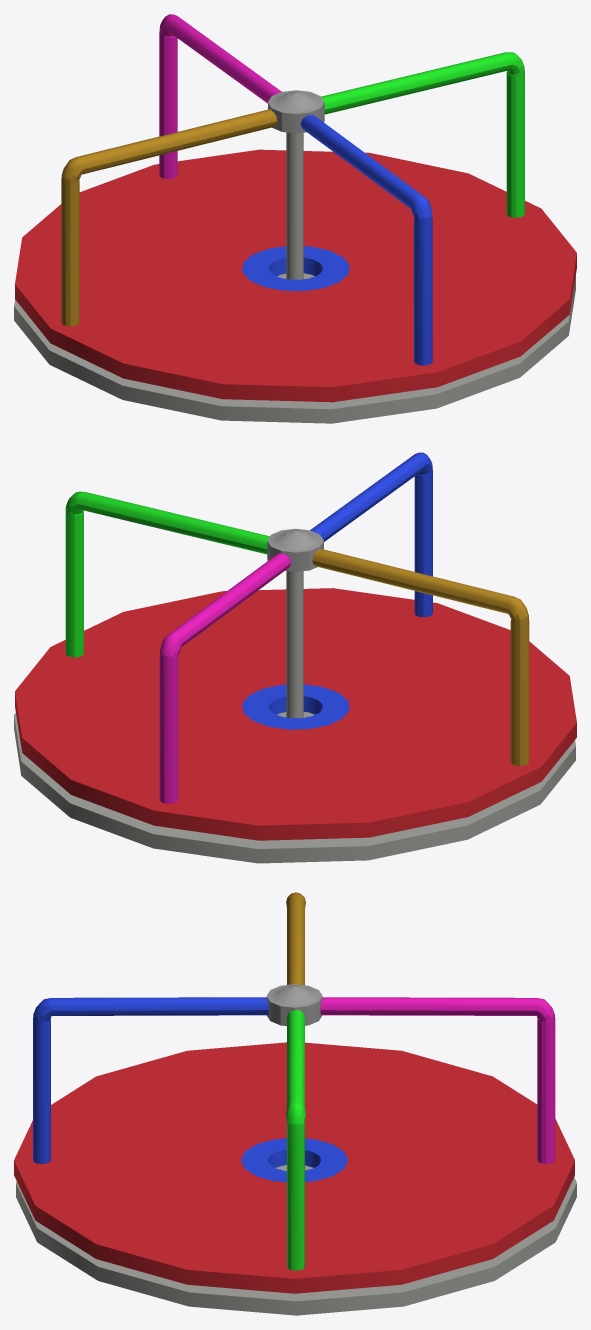
Rendered from ikotikot.fbx.
3 renders of one model, top to bottom at view 1: azimuth 30°, elevation 25°; view 2: azimuth 150°, elevation 25°; view 3: azimuth 270°, elevation 25°, orthographic.
Parts seen in each view (by area): view 1: Cylinder.005, Cylinder; view 2: Cylinder.005, Cylinder; view 3: Cylinder.005, Cylinder.
Part boxes in pixels (x1,y1,x2,y2): Cylinder.005: (15, 14, 576, 402); Cylinder: (14, 132, 575, 423); Cylinder.005: (15, 452, 576, 840); Cylinder: (14, 571, 575, 863); Cylinder.005: (14, 892, 574, 1293); Cylinder: (16, 1165, 576, 1315).
Bounding box in the file's own units: 200 × 82.68 × 201.
